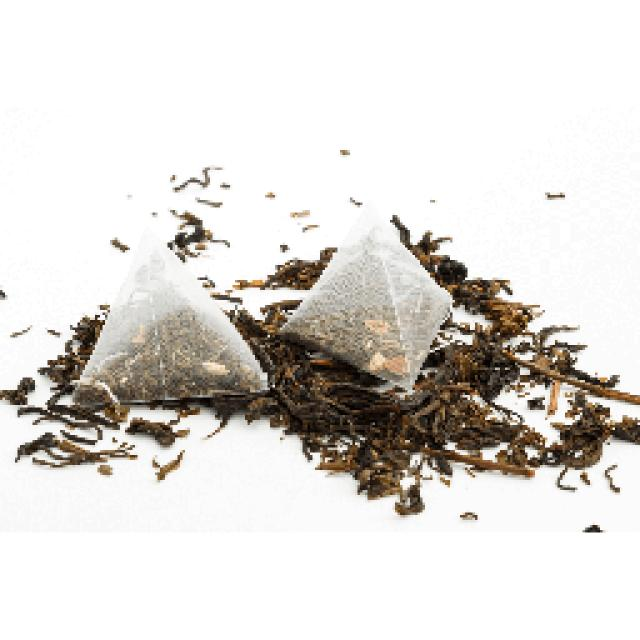tea-bags: (76, 226, 264, 398), (280, 205, 450, 388)
